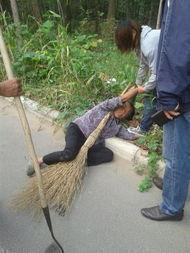Fall-Detected: (18, 80, 154, 170)
